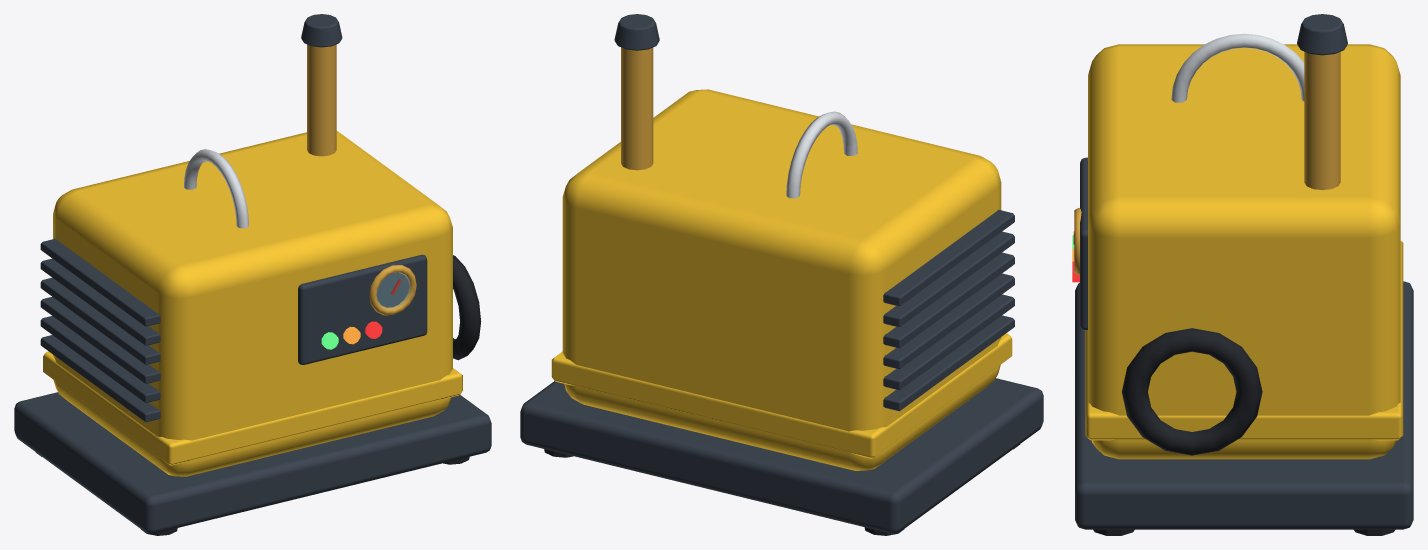
Rendered from generator.glb.
3 renders of one model, left to right at view 1: azimuth 30°, elevation 25°; view 2: azimuth 150°, elevation 25°; view 3: azimuth 270°, elevation 25°, orthographic. The views are drawn at different scales.
Parts seen in each view (by area): view 1: generator_body; view 2: generator_body; view 3: generator_body.
Boxes of the visible parts, x1,y1,x2,y2 form: generator_body: (14, 14, 491, 535); generator_body: (520, 14, 1043, 535); generator_body: (1072, 14, 1413, 535).
Size of the model in its own units: 1.94 by 2.02 by 1.31.
